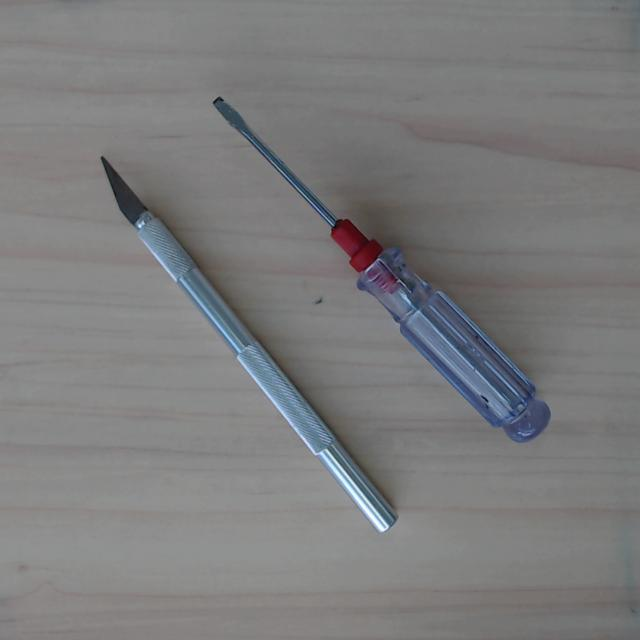Cutter-Kecil: (84, 152, 401, 536)
Obeng-Kecil: (191, 81, 562, 454)
